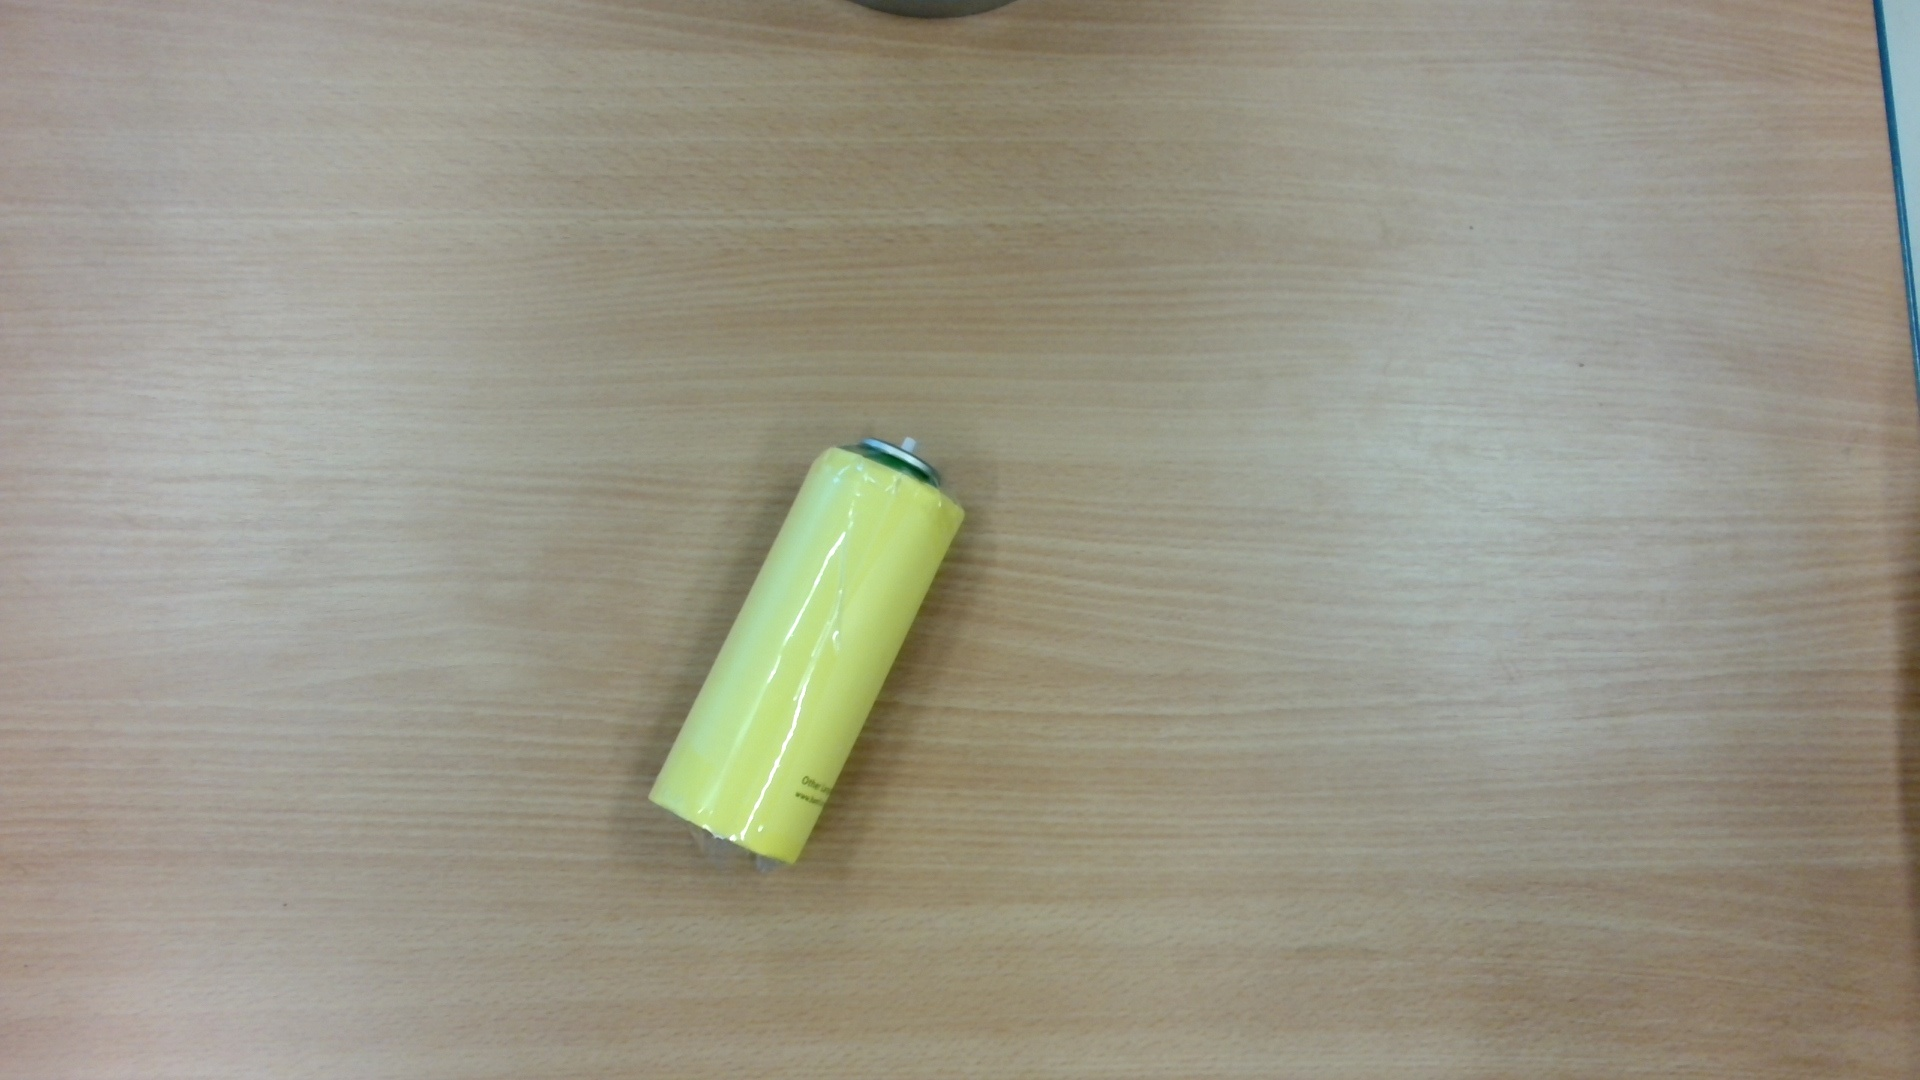Cylinder: (626, 417, 984, 895)
